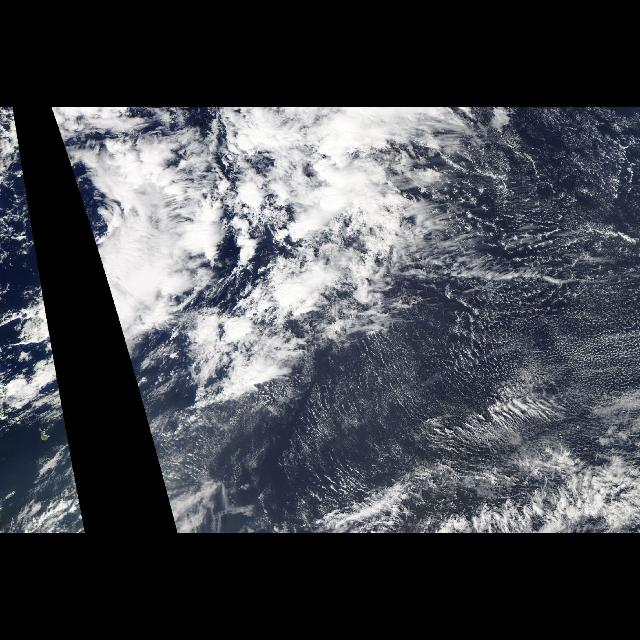Sugar: (233, 111, 639, 523)
